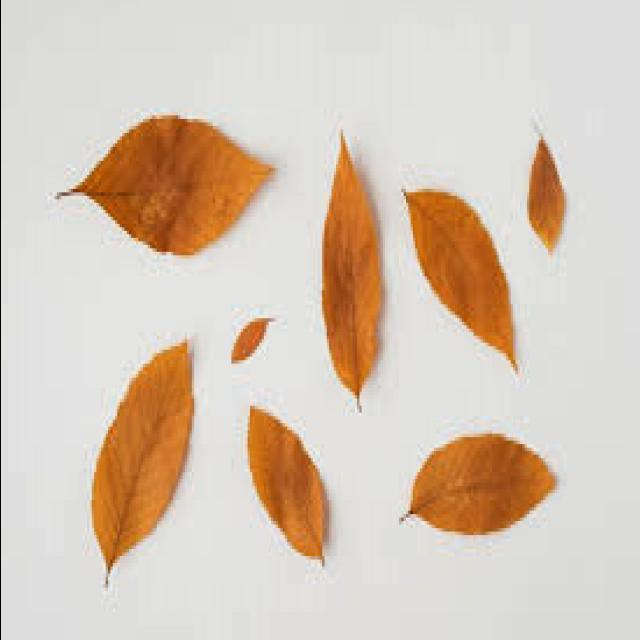leaf: (54, 112, 277, 257), (90, 338, 195, 587), (401, 186, 519, 373), (320, 128, 382, 411), (399, 432, 556, 535), (245, 404, 327, 566), (526, 134, 565, 255), (230, 316, 274, 363)
